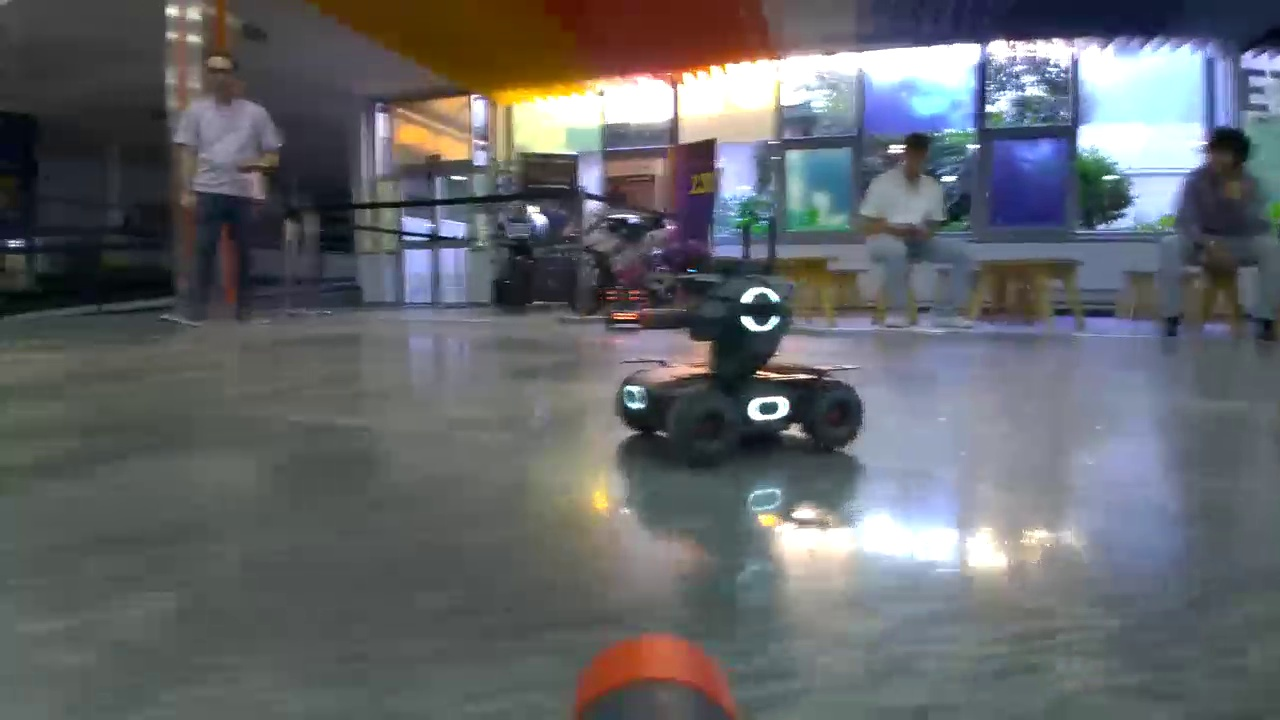robot: (612, 285, 862, 450)
